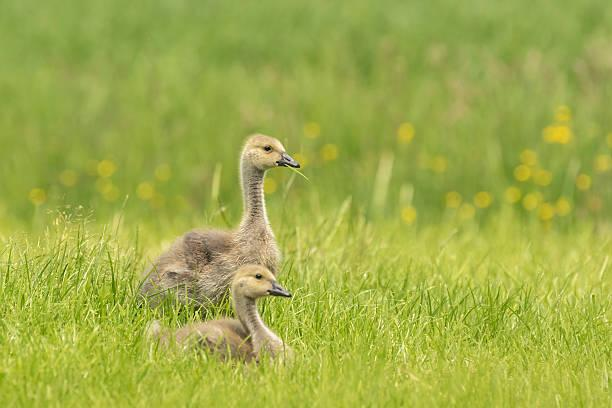Canadian-Goose: (140, 124, 307, 305), (152, 265, 284, 358)
